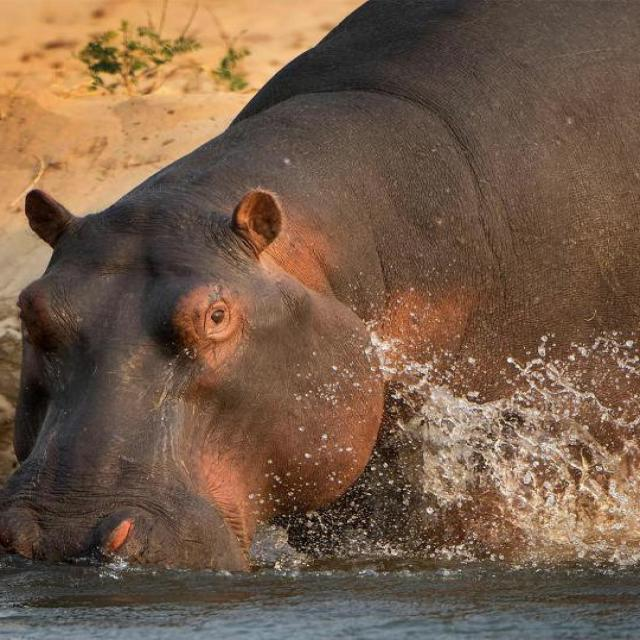hippopotamus: (1, 0, 640, 571)
